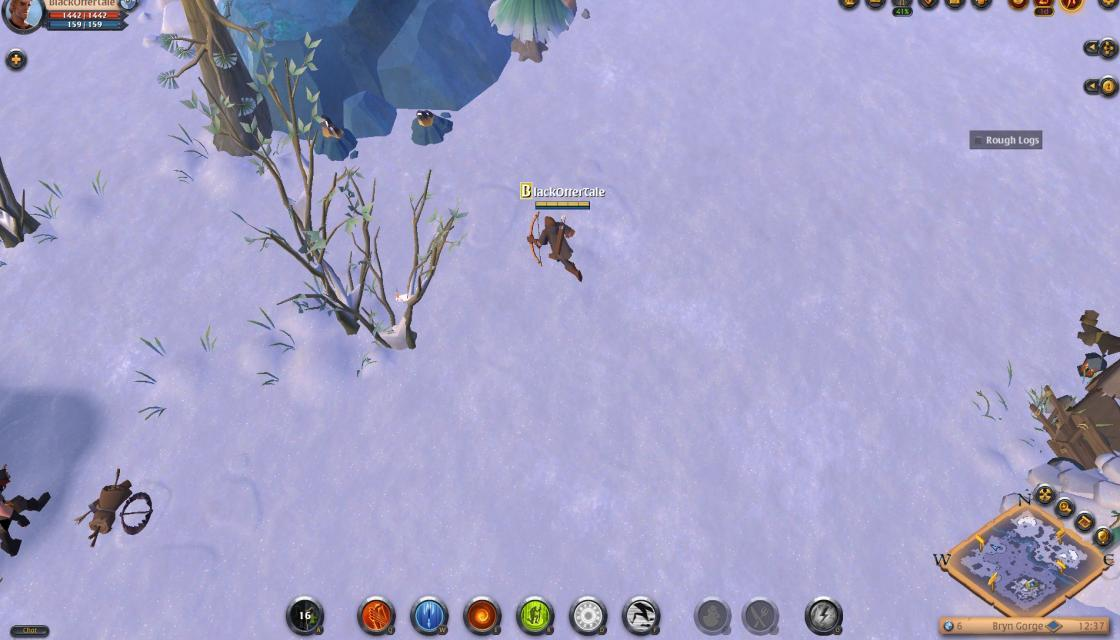copperore: (307, 112, 364, 164), (404, 108, 450, 148)
